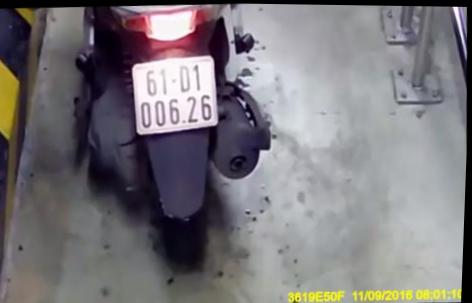LP: (129, 52, 223, 137)
